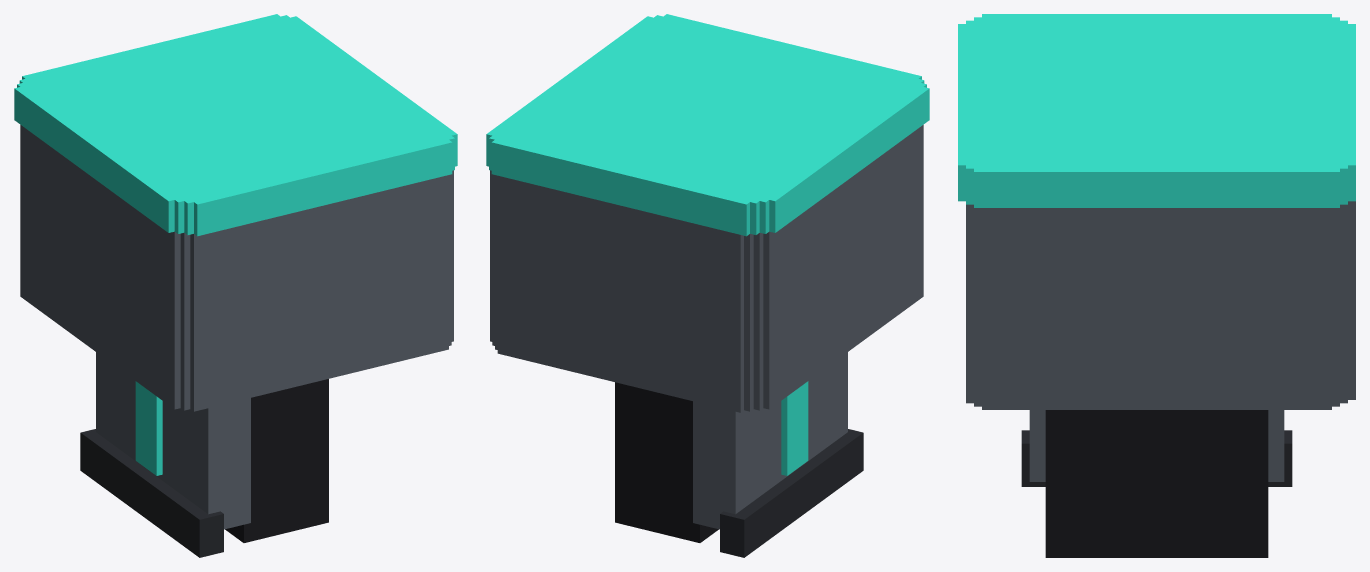
The model's file is gloves_power_worn_palm.glb.
3 renders of one model, left to right at view 1: azimuth 30°, elevation 25°; view 2: azimuth 150°, elevation 25°; view 3: azimuth 270°, elevation 25°, orthographic. The views are drawn at different scales.
Visible parts, largest first — view 1: gloves_power_worn_palm:compound; view 2: gloves_power_worn_palm:compound; view 3: gloves_power_worn_palm:compound.
Part boxes in pixels (x1,y1,x2,y2): gloves_power_worn_palm:compound: [14, 14, 457, 557]; gloves_power_worn_palm:compound: [486, 14, 929, 557]; gloves_power_worn_palm:compound: [958, 14, 1355, 557].
Bounding box in the file's own units: 0.188 × 0.244 × 0.2.
